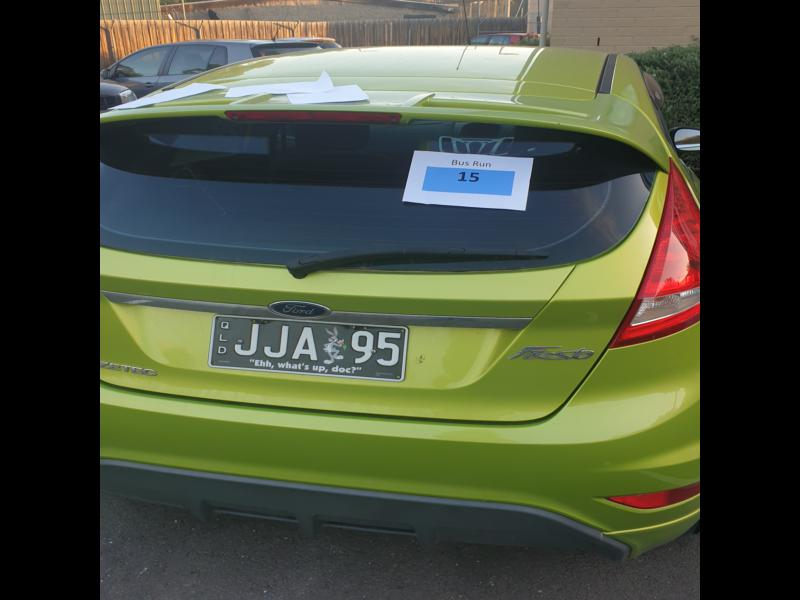BusRun: (419, 165, 515, 196)
PlateNo: (211, 312, 407, 384)
